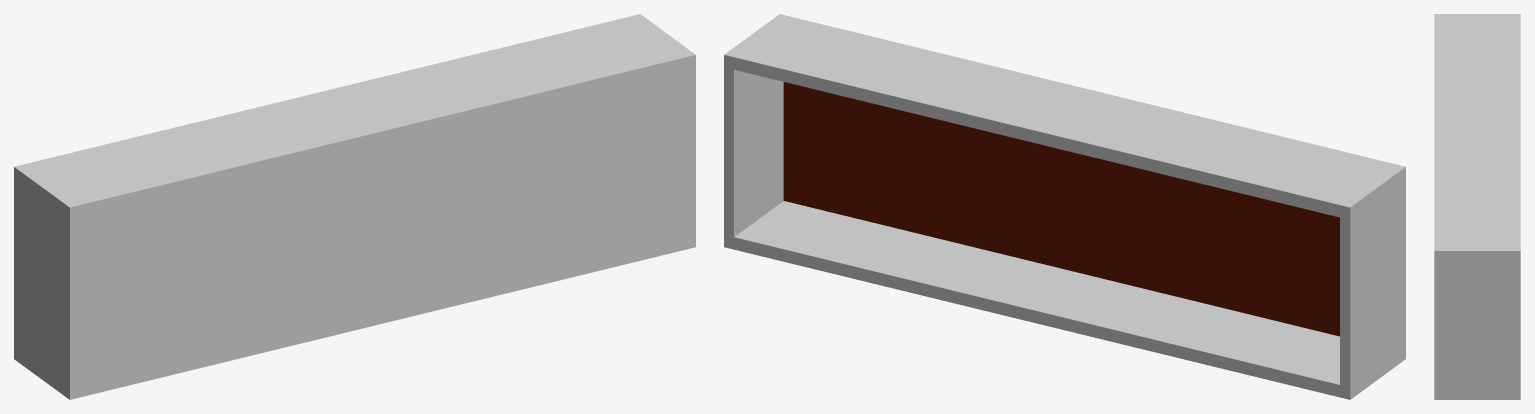
The model's file is median-dirt-barrier-04.fbx.
The picture shows the model from 3 angles, left to right: view 1: azimuth 30°, elevation 25°; view 2: azimuth 150°, elevation 25°; view 3: azimuth 270°, elevation 25°; orthographic projection. The views are drawn at different scales.
Parts seen in each view (by area): view 1: median-dirt-barrier-04; view 2: median-dirt-barrier-04; view 3: median-dirt-barrier-04.
Part boxes in pixels (bbox=[...]): median-dirt-barrier-04: bbox=[14, 14, 695, 399]; median-dirt-barrier-04: bbox=[724, 14, 1405, 399]; median-dirt-barrier-04: bbox=[1434, 14, 1520, 399].
Size of the model in its own units: 5.61 by 1.65 by 0.8653.
